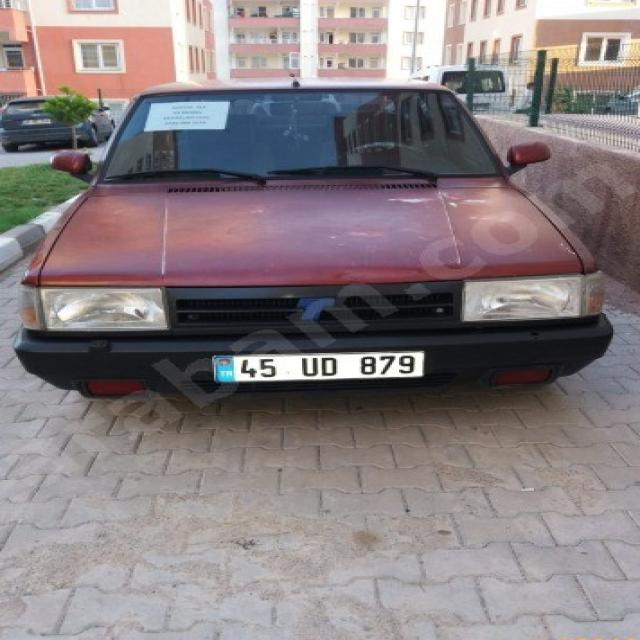license_plate: (213, 351, 425, 383)
